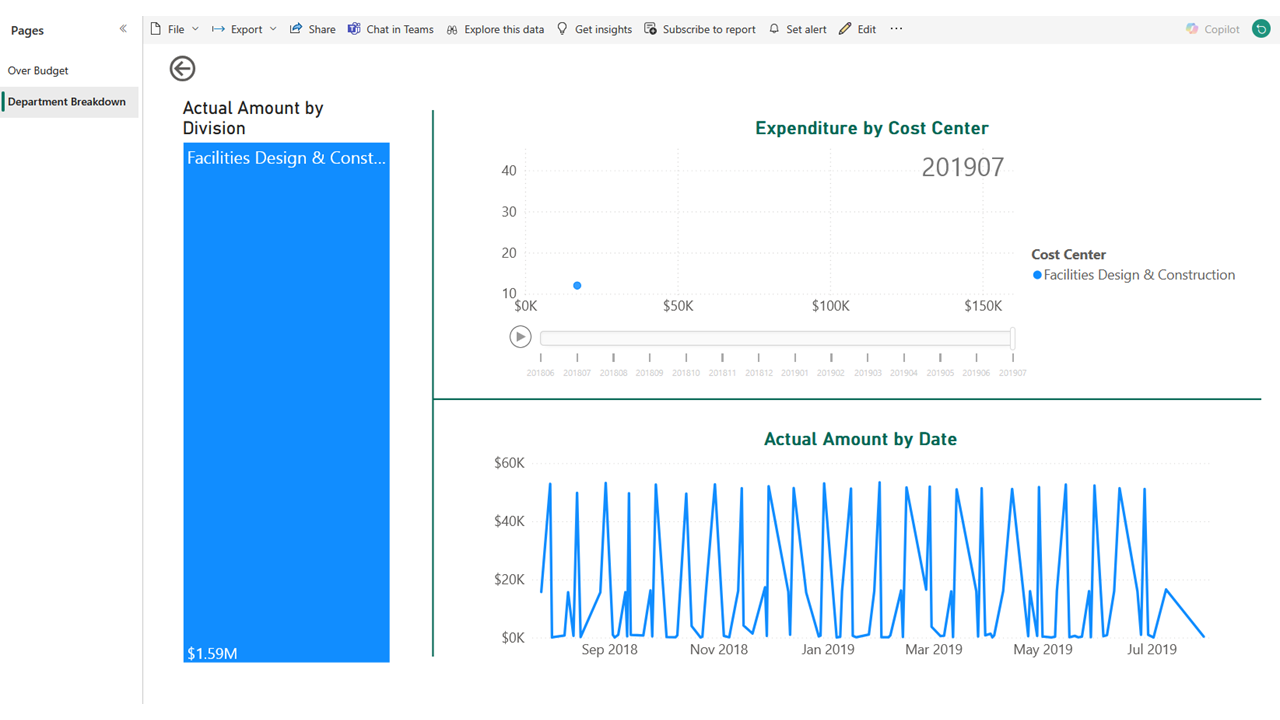

What the dashboard file says about the page in this screenshot:
{"tool":"powerbi","page":{"name":"Department Breakdown","canvas":[1280,720],"ordinal":1},"visuals":[{"type":"lineChart","fields":{"Y":["Sum(Expenditures.Actual Amount)"],"Category":["Recorded Date.Date"]},"box":[377.5,439.6,868.9,280.8],"z":0},{"type":"treemap","fields":{"Values":["Sum(Expenditures.Actual Amount)"],"Group":["Cost Centers.Cost Center Hierarchy.Division","Cost Centers.Cost Center Hierarchy.Cost Center"]},"box":[14.2,52.9,252.3,667.5],"z":1000},{"type":"actionButton","box":[0,0,100,40],"z":2000},{"type":"scatterChart","title":"Expenditure by Cost Center","fields":{"X":["Sum(Expenditures.Actual Amount)"],"Y":["Expenditures.Number of Expenditures"],"Series":["Cost Centers.Cost Center"],"Play":["Recorded Date.Year and Month"]},"box":[386.6,76.3,877.1,322.5],"z":3000},{"type":"shape","box":[312.4,386.6,967.6,39.7],"z":4000},{"type":"shape","box":[286.9,68.2,49.9,639],"z":5000}]}

Visuals, with their boxes on the page's 1280x720 design canvas (x1, y1, x2, y2). These are canvas units, not pixel positions in the 1280x720 screenshot, which may show the page scaled, cropped or inside an application window:
lineChart - Sum(Expenditures.Actual Amount) x Recorded Date.Date: BBox(378, 440, 1246, 720)
treemap - Sum(Expenditures.Actual Amount) x Cost Centers.Cost Center Hierarchy.Division: BBox(14, 53, 266, 720)
actionButton: BBox(0, 0, 100, 40)
"Expenditure by Cost Center" scatterChart: BBox(387, 76, 1264, 399)
shape: BBox(312, 387, 1280, 426)
shape: BBox(287, 68, 337, 707)
